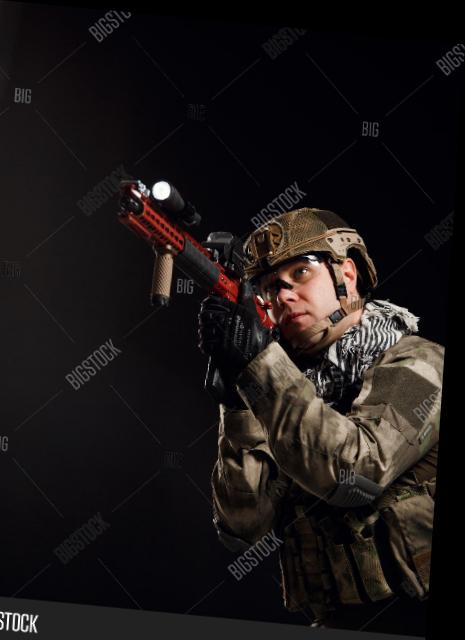other: (171, 181, 455, 607)
